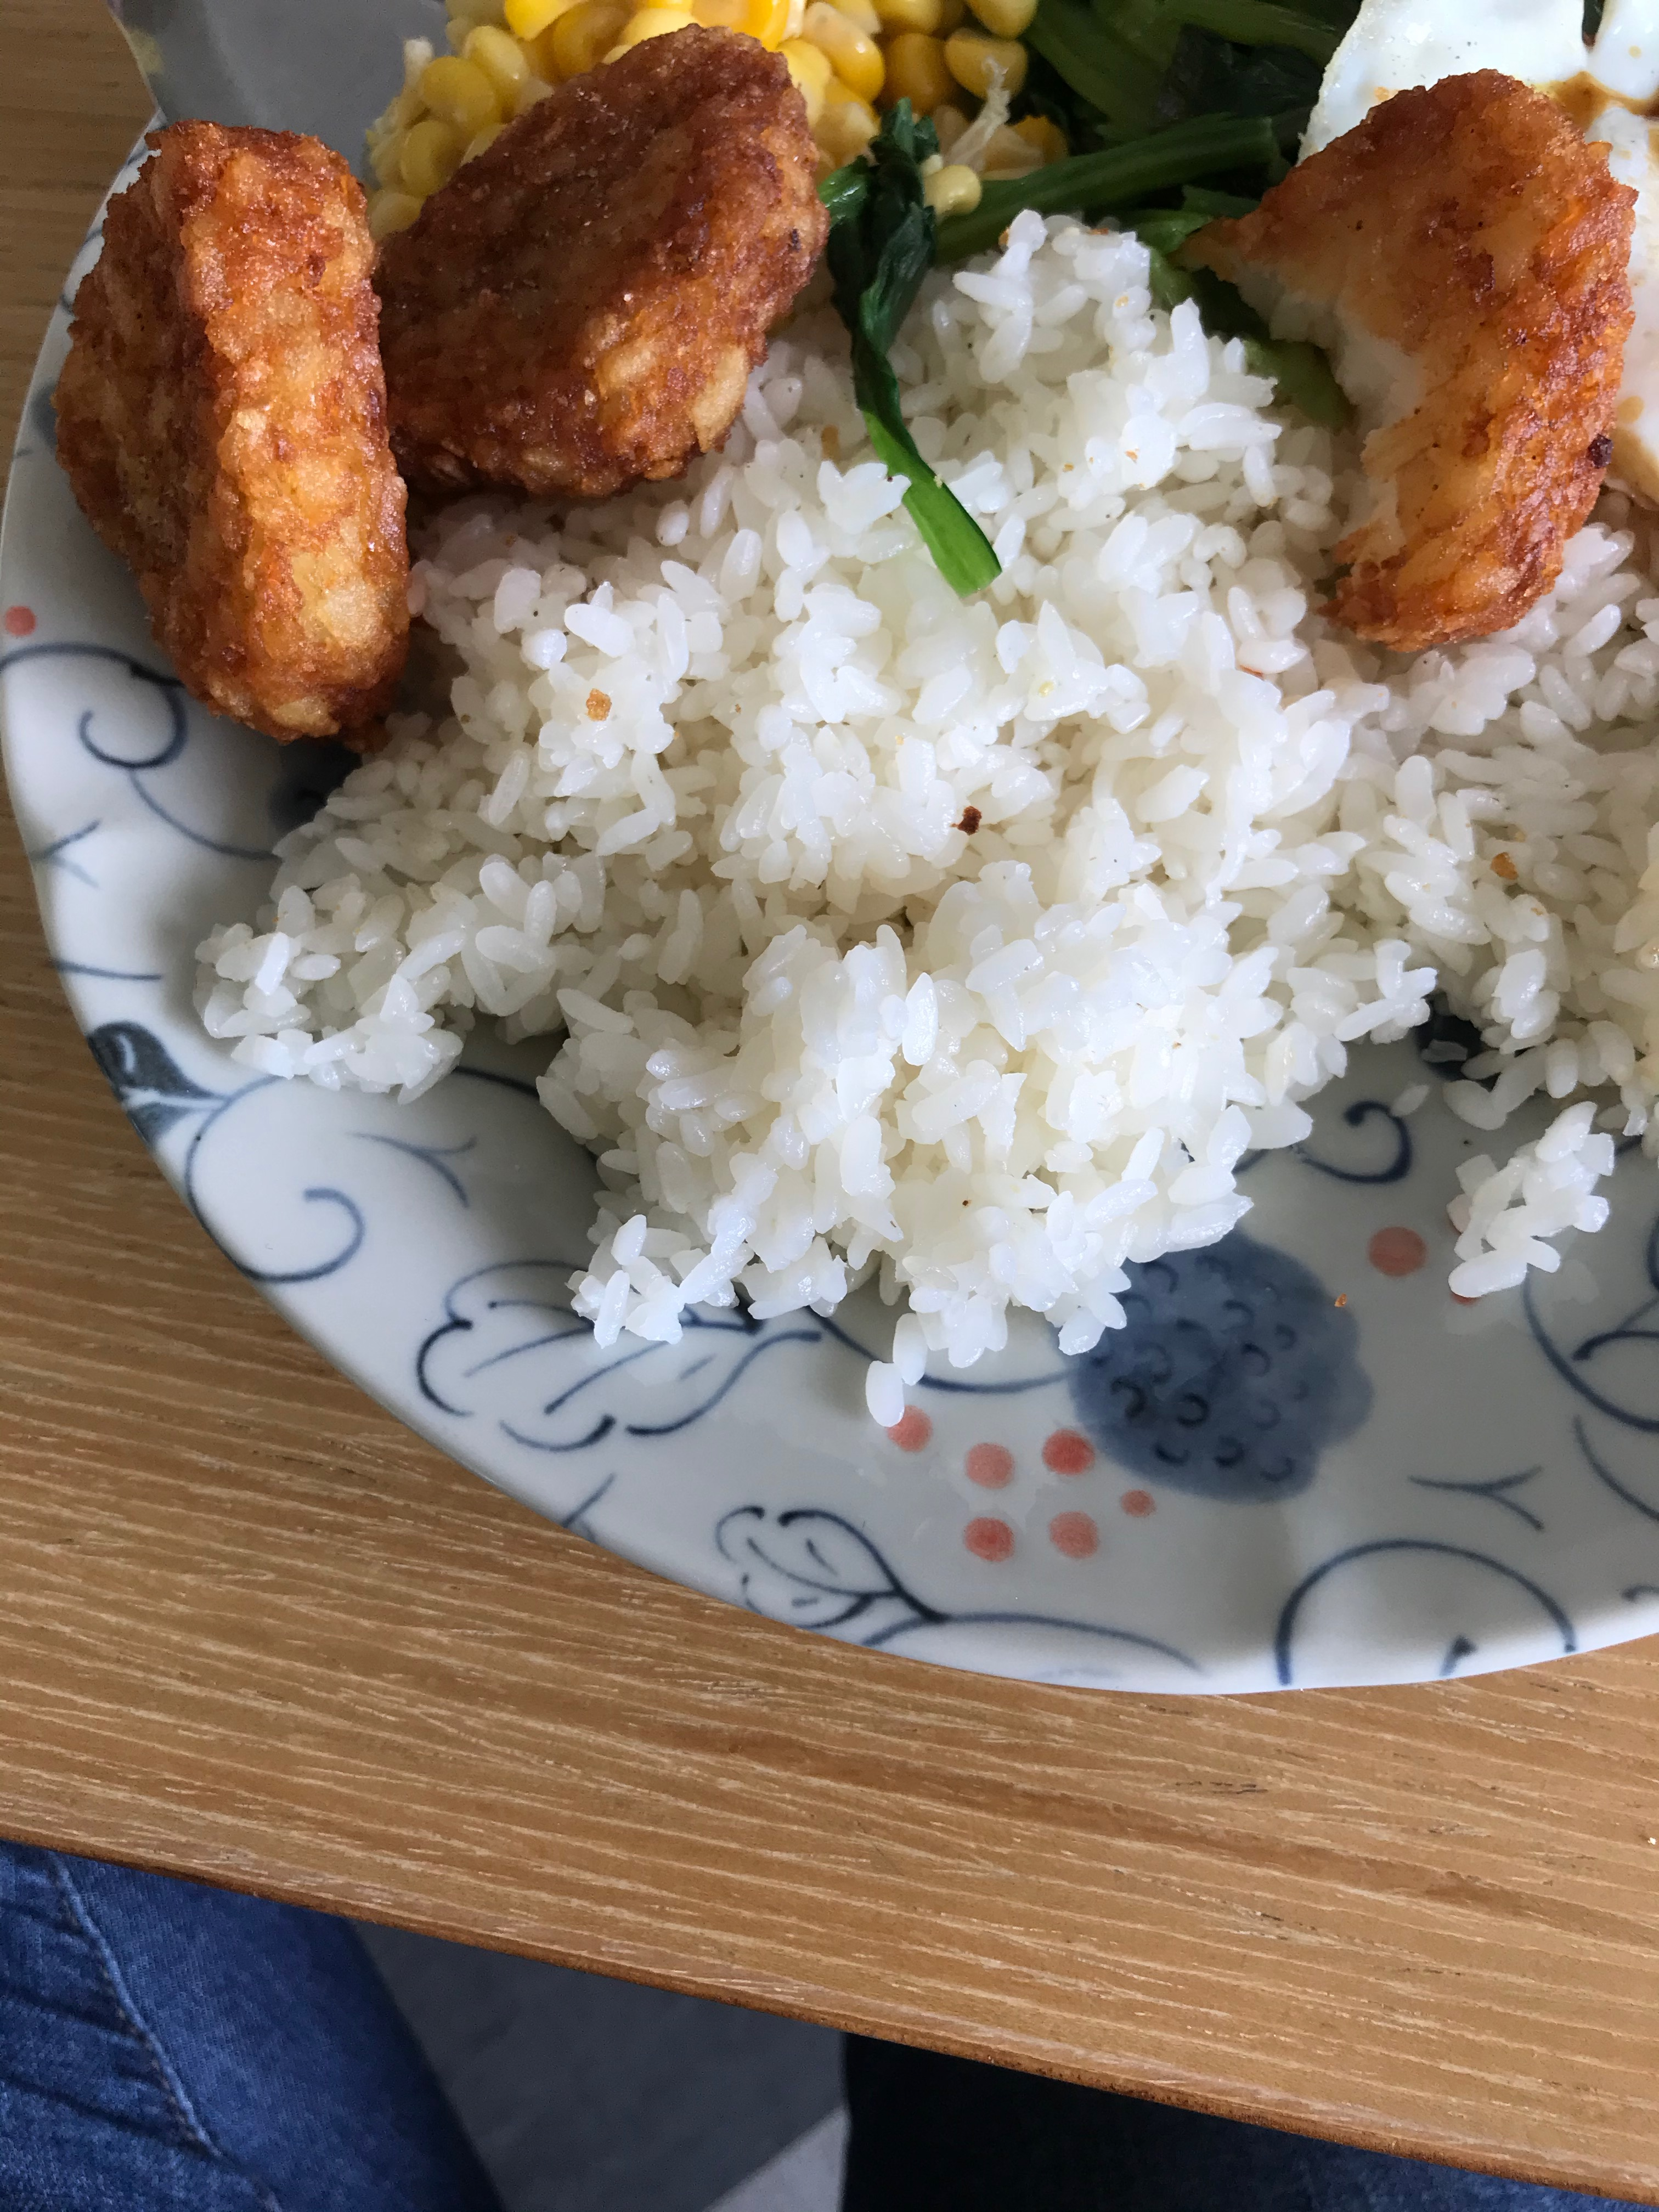rice: (397, 441, 1448, 1315)
triangle_hash_brown: (51, 21, 824, 744), (1169, 68, 1640, 657)
